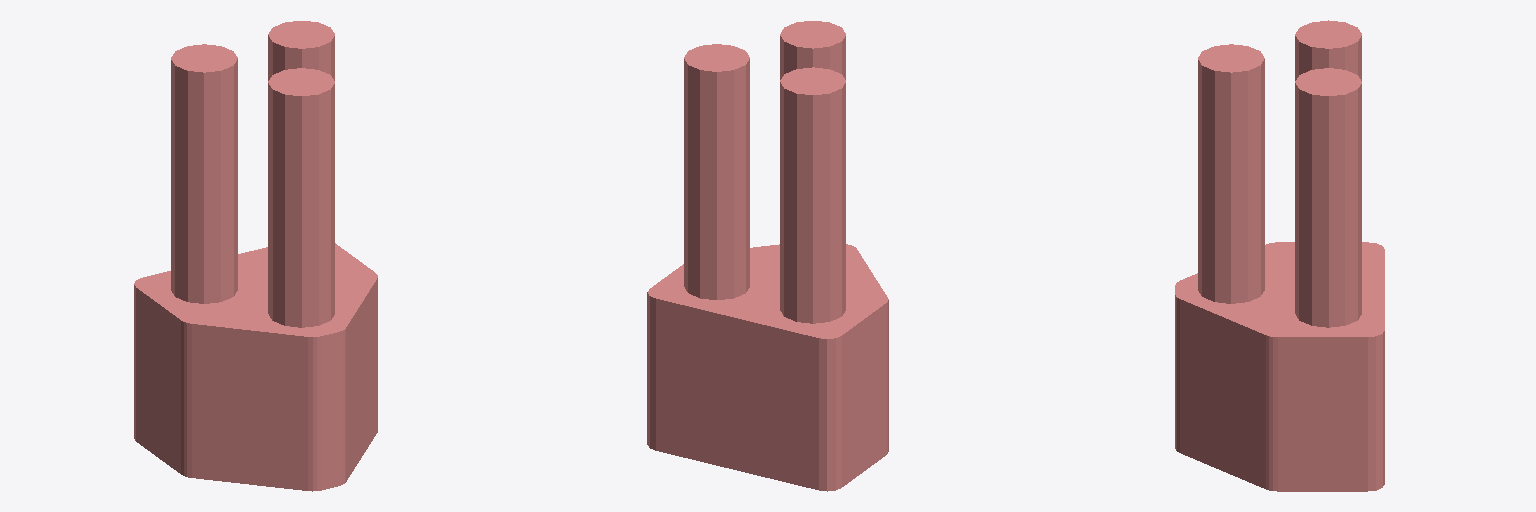
robot.urdf — Medium_Short_3Prong_JeansRed:
<?xml version="1.0"?>
<robot name="Medium_Short_3Prong_JeansRed">
    <link name="Medium_Short_3Prong_JeansRed">
        <visual>
            <geometry>
                <mesh filename="../mesh/factory_insertion/Medium_Short_3Prong_JeansRed.obj" scale="0.001 0.001 0.001"/>
            </geometry>
            <material name="JeansRed">
              <color rgba="0.91 0.6 0.6 0"/>
            </material>
        </visual>
        <collision>
            <geometry>
                <mesh filename="../mesh/factory_insertion/Medium_Short_3Prong_JeansRed.obj" scale="0.001 0.001 0.001"/>
            </geometry>
            <sdf resolution="512"/>
        </collision>
    </link>
</robot>

--- Facts derived from the render (not from the file) ---
Views: 3 orthographic renders of the robot side by side, from view 1: azimuth 30°, elevation 25°; view 2: azimuth 150°, elevation 25°; view 3: azimuth 270°, elevation 25°.
Robot: Medium_Short_3Prong_JeansRed — 1 links, 0 joints (none); root link Medium_Short_3Prong_JeansRed; default pose: every joint at zero.
Visible links, largest first — view 1: Medium_Short_3Prong_JeansRed; view 2: Medium_Short_3Prong_JeansRed; view 3: Medium_Short_3Prong_JeansRed.
Boxes of the visible links, <box> form: Medium_Short_3Prong_JeansRed: <box>134,21,377,491</box>; Medium_Short_3Prong_JeansRed: <box>647,21,888,491</box>; Medium_Short_3Prong_JeansRed: <box>1175,20,1384,491</box>.
Bounding box of the posed robot: 0.0528 × 0.0493 × 0.1 m (x, y, z).
Meshes: 1 distinct files referenced, 1 mesh visuals loaded (1 OBJ).
